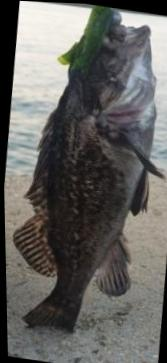fish: (11, 10, 163, 333)
